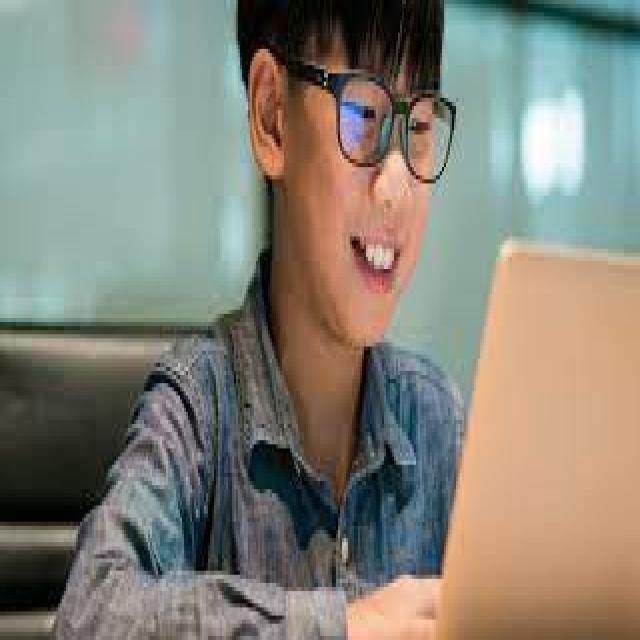Glasses: (292, 49, 458, 187)
